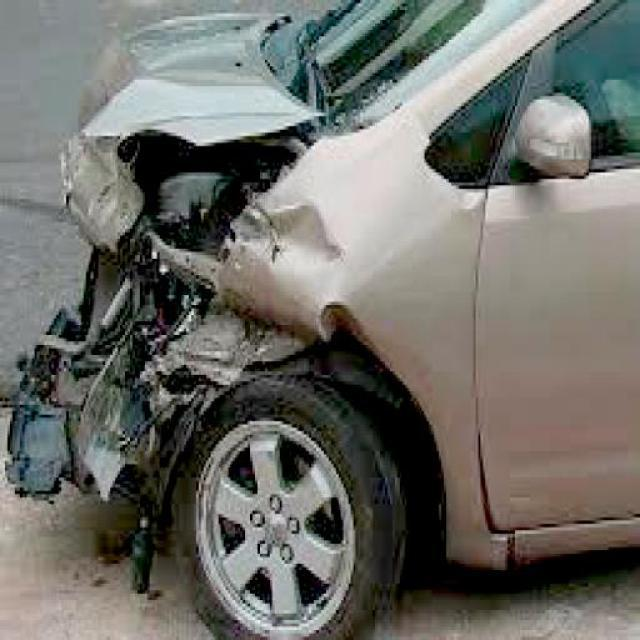Car-Damage: (2, 91, 355, 598)
